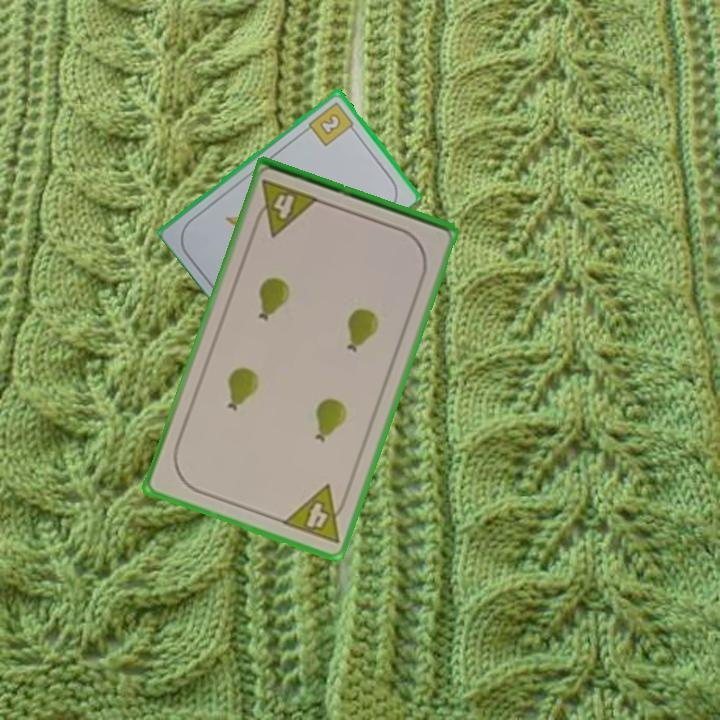2b: (305, 98, 359, 149)
4p: (278, 481, 353, 547), (249, 176, 322, 240)
